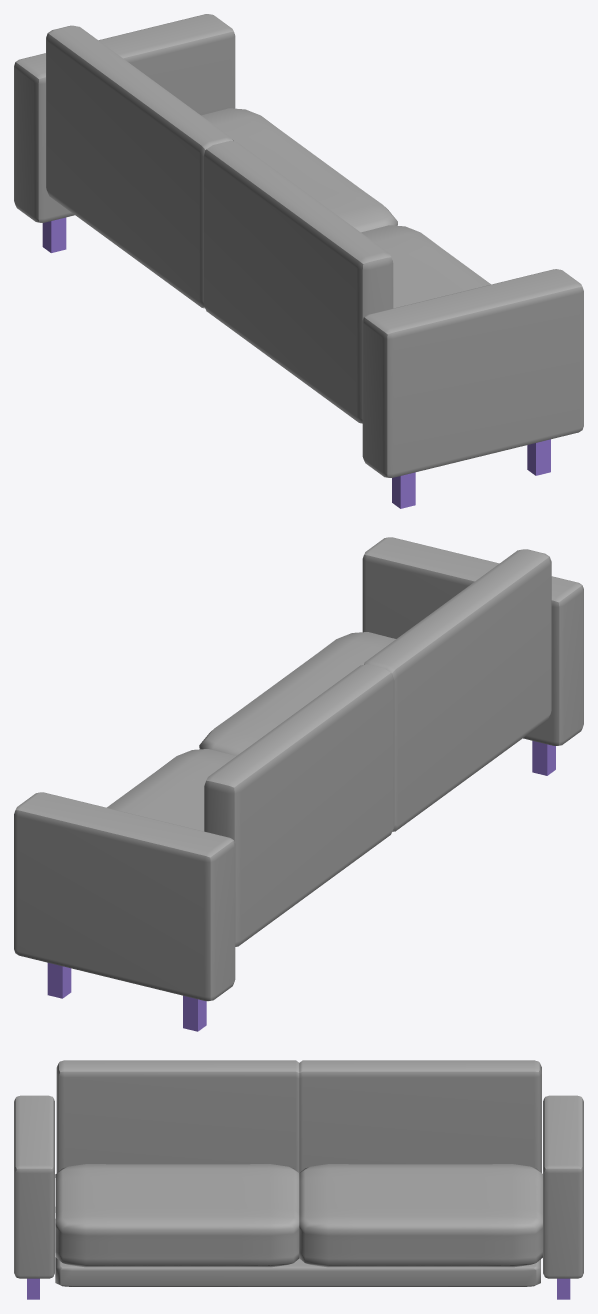
The model's file is canape.fbx.
3 renders of one model, top to bottom at view 1: azimuth 30°, elevation 25°; view 2: azimuth 150°, elevation 25°; view 3: azimuth 270°, elevation 25°, orthographic. The views are drawn at different scales.
Visible parts, largest first — view 1: pCube26; view 2: pCube26; view 3: pCube26.
Boxes of the visible parts, x1,y1,x2,y2 form: pCube26: (14,14,583,508); pCube26: (14,537,583,1031); pCube26: (14,1060,583,1299).
Size of the model in its own units: 92 by 99.77 by 287.
